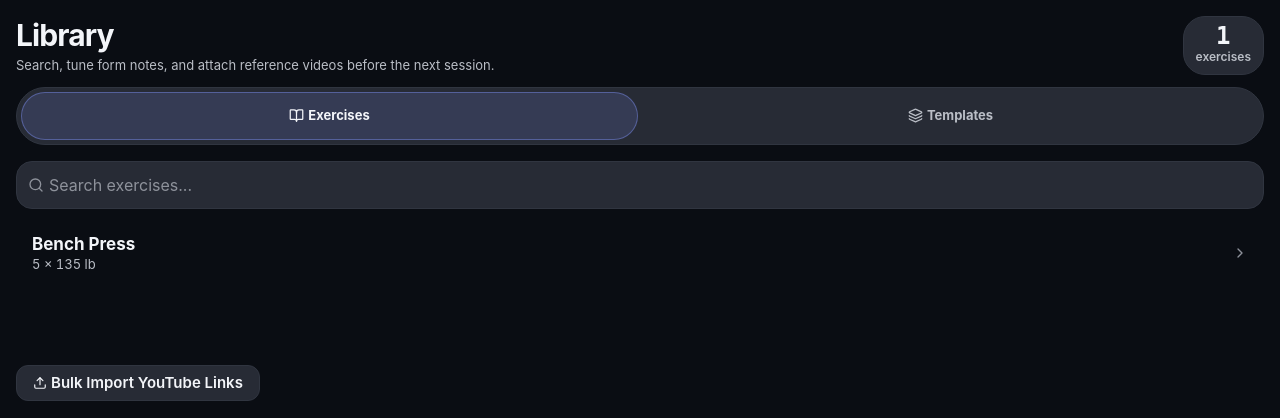
Test case: LibraryView tabs › switches to the Templates tab and shows template names
Click the tab "Templates": x=950, y=116 top-left (642, 92), bottom-right (1259, 140)
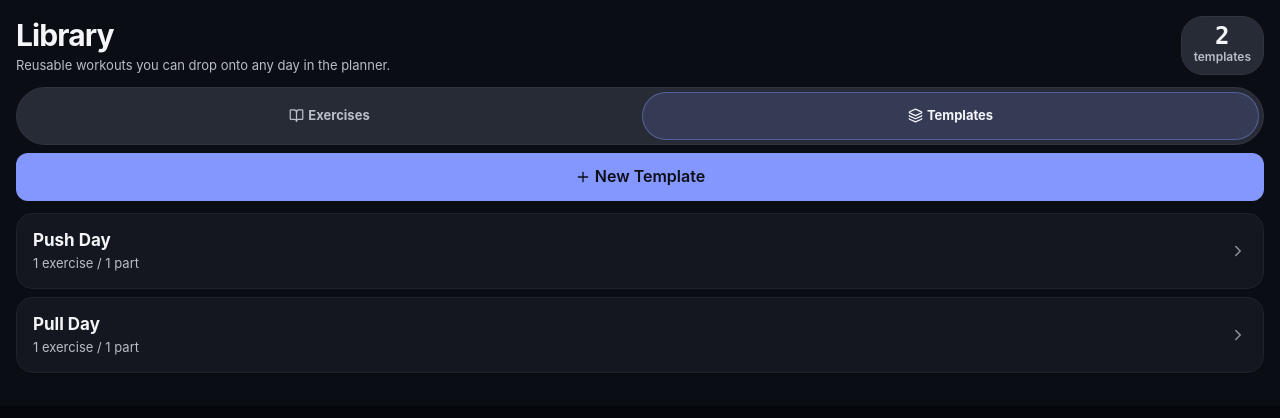
Now the text "Push Day" is shown, box top-left (33, 230), bottom-right (111, 250)
Now the text "Pull Day" is shown, box top-left (33, 314), bottom-right (100, 334)
